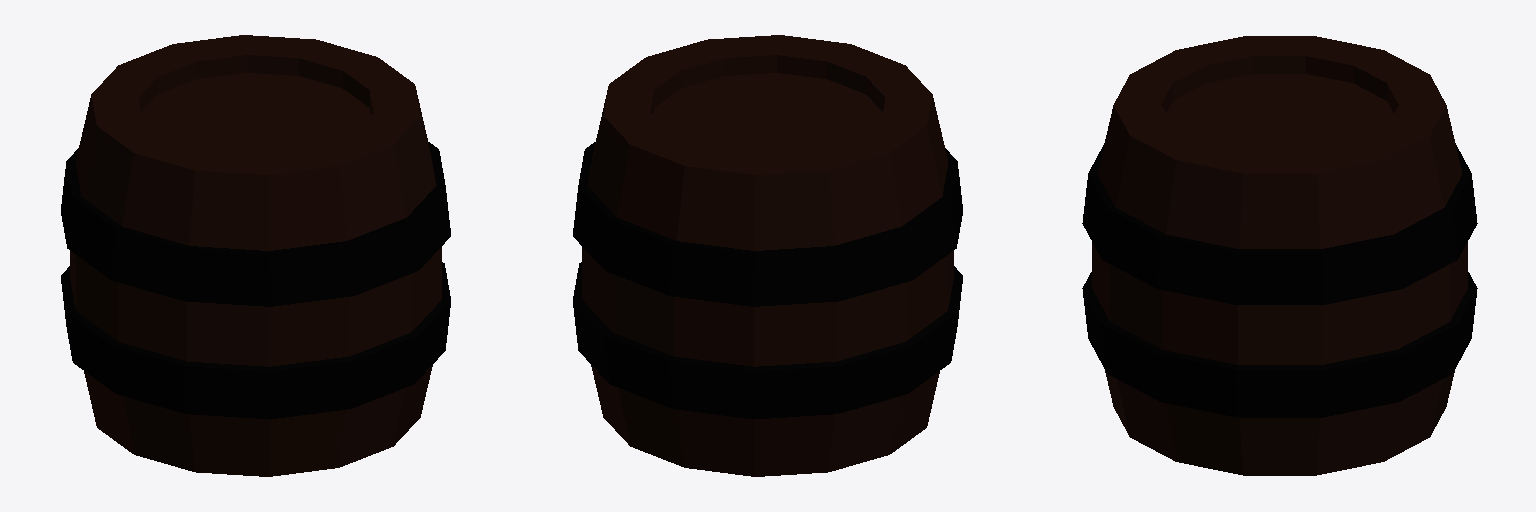
Rendered from barrel1(F156).obj.
3 views of the same model, side by side, from view 1: azimuth 30°, elevation 25°; view 2: azimuth 150°, elevation 25°; view 3: azimuth 270°, elevation 25° (orthographic).
Parts seen in each view (by area): view 1: Cylinder; view 2: Cylinder; view 3: Cylinder.
Boxes of the visible parts, x1=… form: Cylinder: x1=61, y1=35, x2=450, y2=476; Cylinder: x1=573, y1=35, x2=962, y2=476; Cylinder: x1=1082, y1=36, x2=1477, y2=475.
Size of the model in its own units: 2.31 by 2 by 2.37.